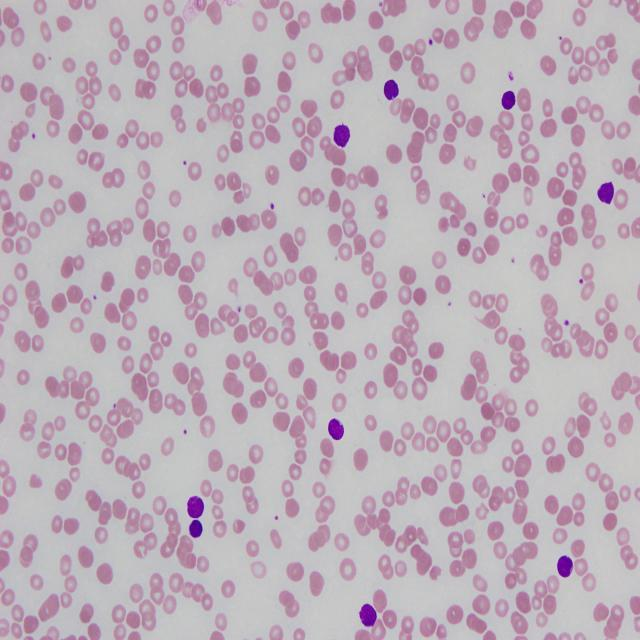cell: (359, 603, 376, 627), (188, 495, 204, 518), (334, 125, 350, 147), (328, 418, 344, 440), (598, 182, 614, 203), (384, 80, 399, 100), (501, 92, 516, 110)
